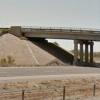Bridge: (24, 20, 98, 52)
